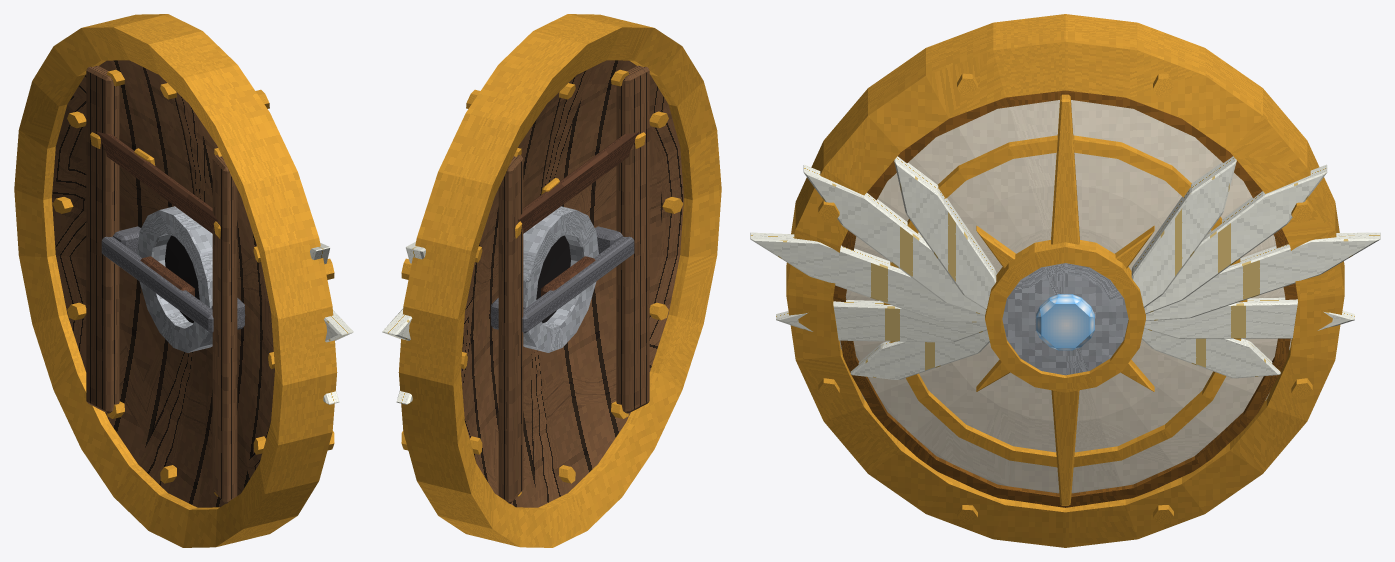
Rendered from AngelShield.glb.
3 views of the same model, side by side, from view 1: azimuth 30°, elevation 25°; view 2: azimuth 150°, elevation 25°; view 3: azimuth 270°, elevation 25° (orthographic). The views are drawn at different scales.
Visible parts, largest first — view 1: Shield; view 2: Shield; view 3: Shield.
Part boxes in pixels (x1,y1,x2,y2): Shield: [14, 14, 353, 547]; Shield: [382, 14, 721, 547]; Shield: [750, 14, 1380, 547].
Bounding box in the file's own units: 0.3289 × 1.32 × 1.49.
1 material, 1 textured.
